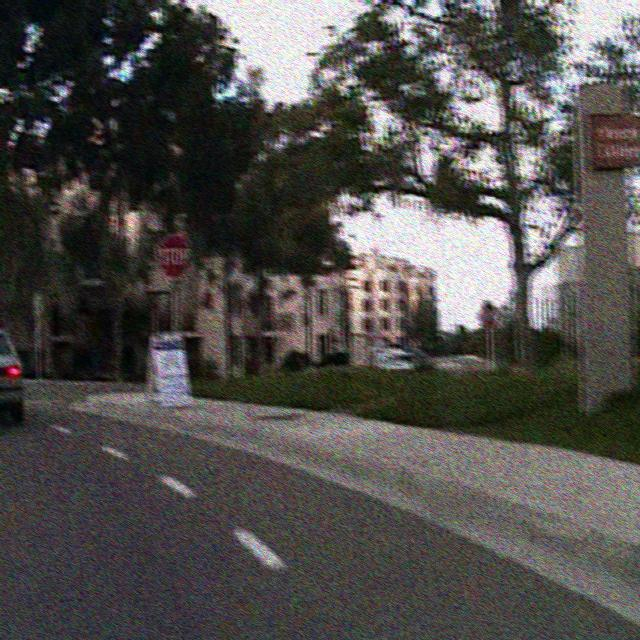stop: (156, 230, 190, 278)
